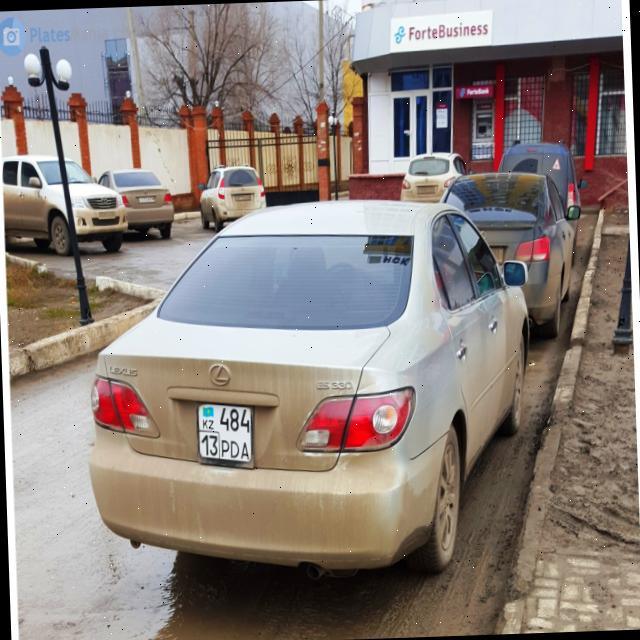License-plate: (196, 404, 258, 464), (233, 192, 252, 202), (137, 193, 156, 203)
